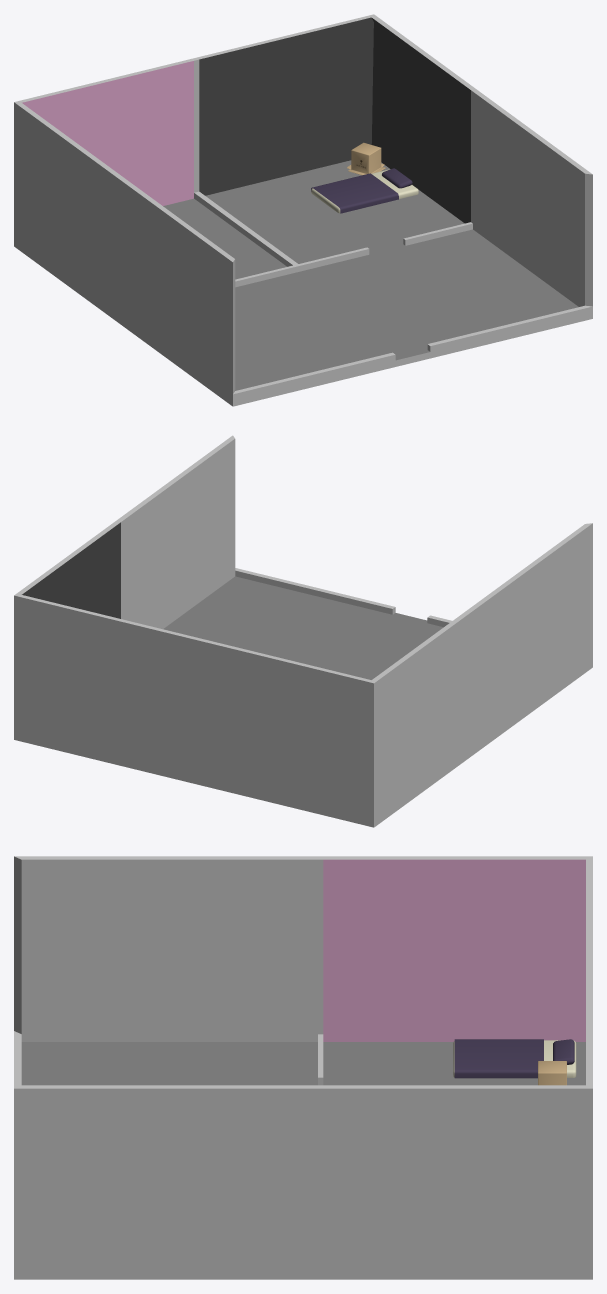
File: flat layout start.fbx
3 renders of one model, top to bottom at view 1: azimuth 30°, elevation 25°; view 2: azimuth 150°, elevation 25°; view 3: azimuth 270°, elevation 25°, orthographic. The views are drawn at different scales.
Visible parts, largest first — view 1: Flat, bed2, box2; view 2: Flat; view 3: Flat, bed1, box1.
Part boxes in pixels (left/top/right/bottom): Flat: left=14, top=14, right=592, bottom=406; bed2: left=311, top=168, right=418, bottom=213; box2: left=347, top=142, right=385, bottom=175; Flat: left=14, top=435, right=592, bottom=827; Flat: left=14, top=856, right=592, bottom=1279; bed1: left=453, top=1039, right=576, bottom=1078; box1: left=538, top=1061, right=566, bottom=1085.
Bounding box in the file's own units: 838 × 321 × 883.
